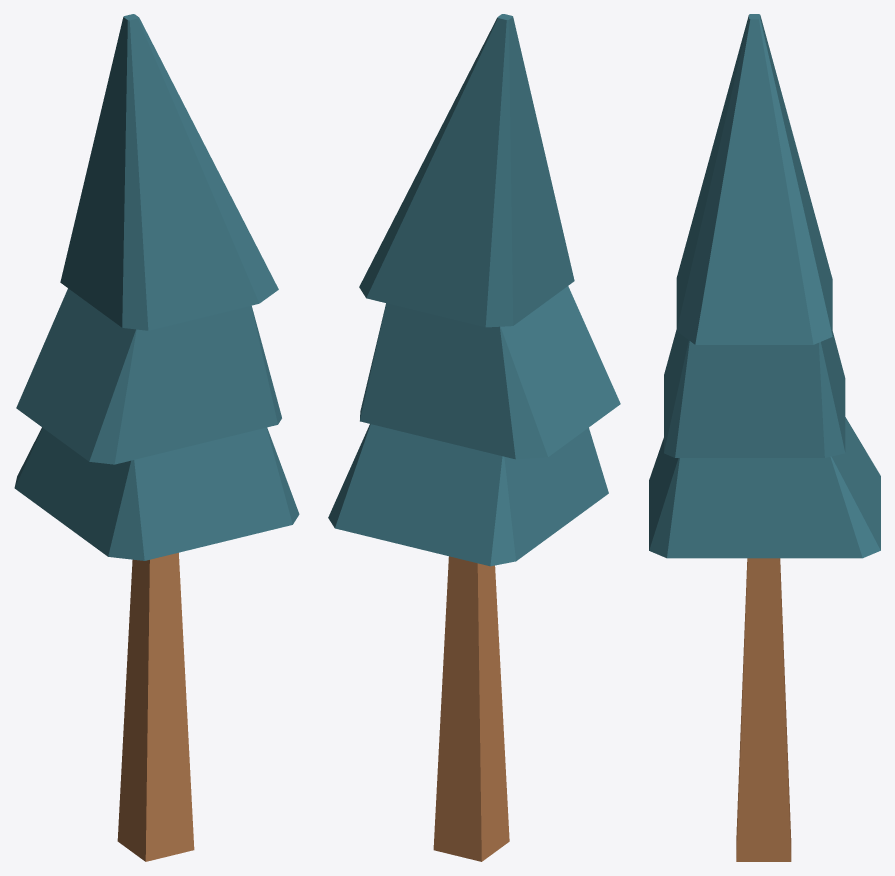
File: tree_pine_shortSquare.obj
3 renders of one model, left to right at view 1: azimuth 30°, elevation 25°; view 2: azimuth 150°, elevation 25°; view 3: azimuth 270°, elevation 25°, orthographic. The views are drawn at different scales.
Visible parts, largest first — view 1: tree_pine_shortSquare; view 2: tree_pine_shortSquare; view 3: tree_pine_shortSquare.
Part boxes in pixels (box(x1,y1,x2,y2)): tree_pine_shortSquare: box(14, 14, 299, 861); tree_pine_shortSquare: box(328, 14, 620, 861); tree_pine_shortSquare: box(649, 14, 880, 861).
Bounding box in the file's own units: 3.86 × 15.3 × 3.92.
